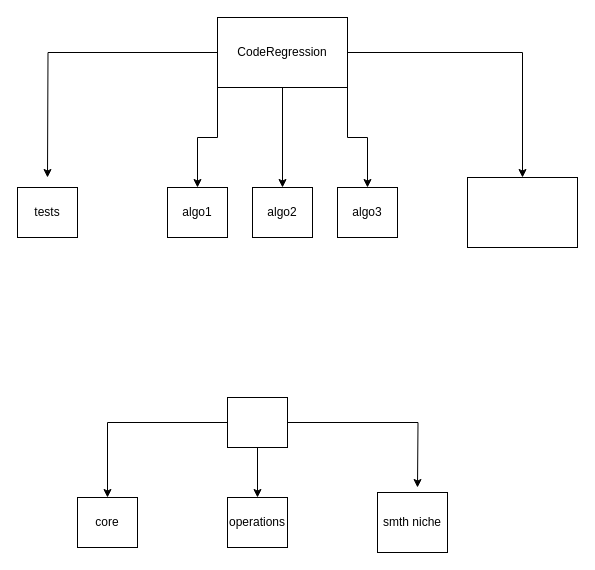
This 595x570 diagram has some shape labels left out. The shapes that lost their labels are listed below. From the top down, each one's box as (x1, y1, x2, y2) in pixels, then its label:
(466, 176, 578, 248): CodeRegression.jl
(226, 396, 288, 448): algo
